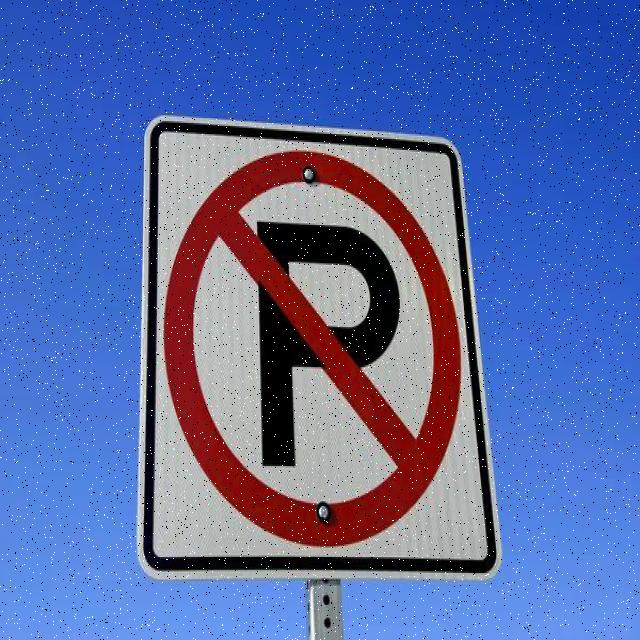No_parking: (164, 151, 457, 539)
